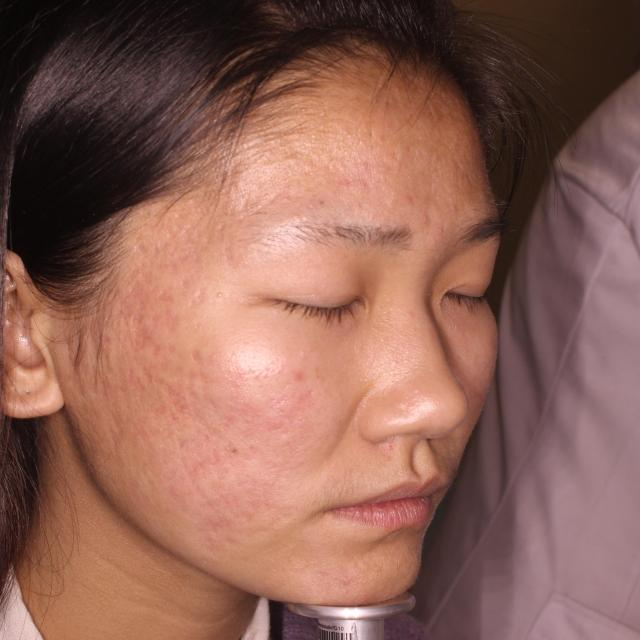comedone: (398, 190, 424, 214)
